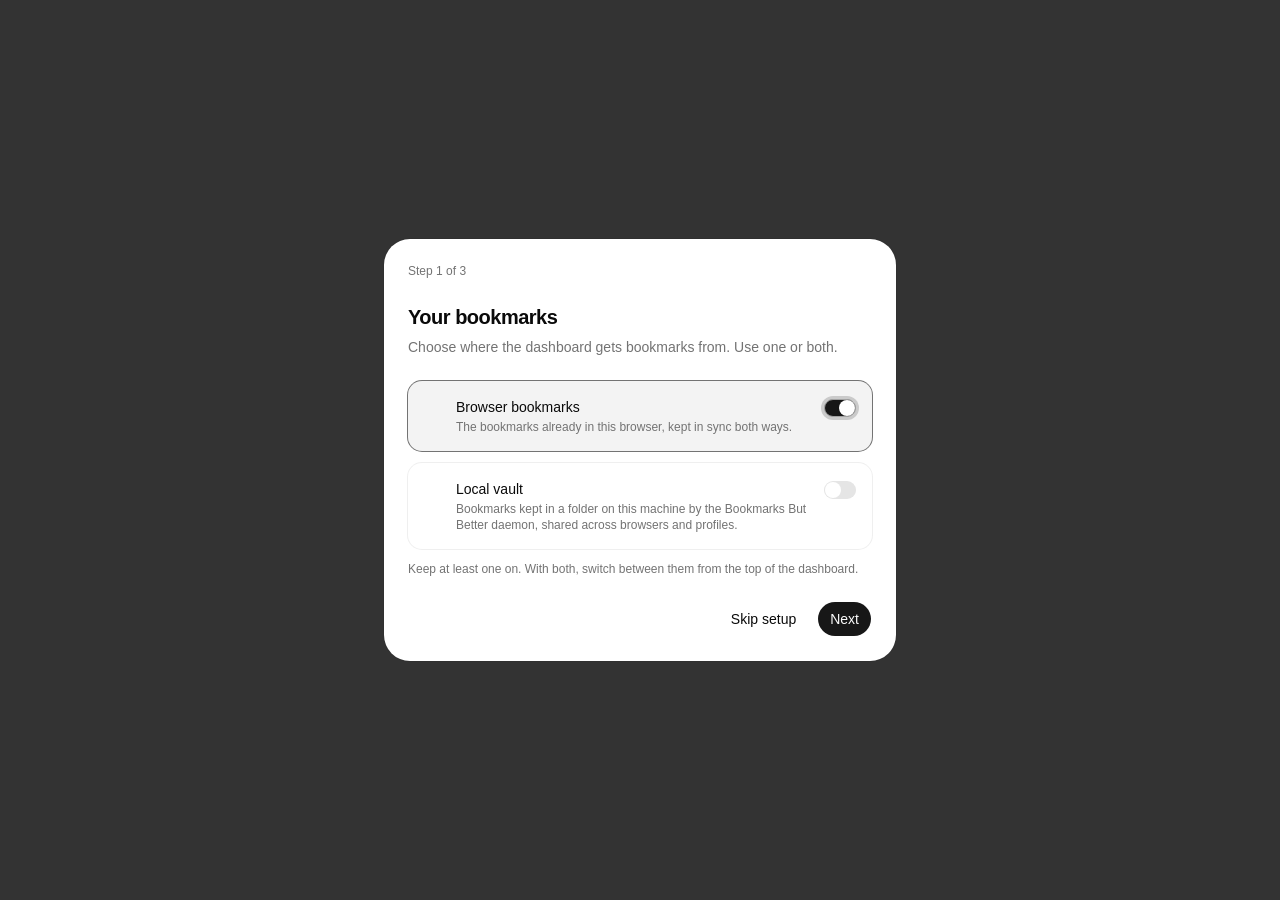
Test case: OnboardingWizard source step › keeps at least one on: switching Browser bookmarks off switches the vault on
Click the switch named "Browser bookmarks" in the row of "Browser bookmarks" at (840, 408), box [824, 399, 856, 417]
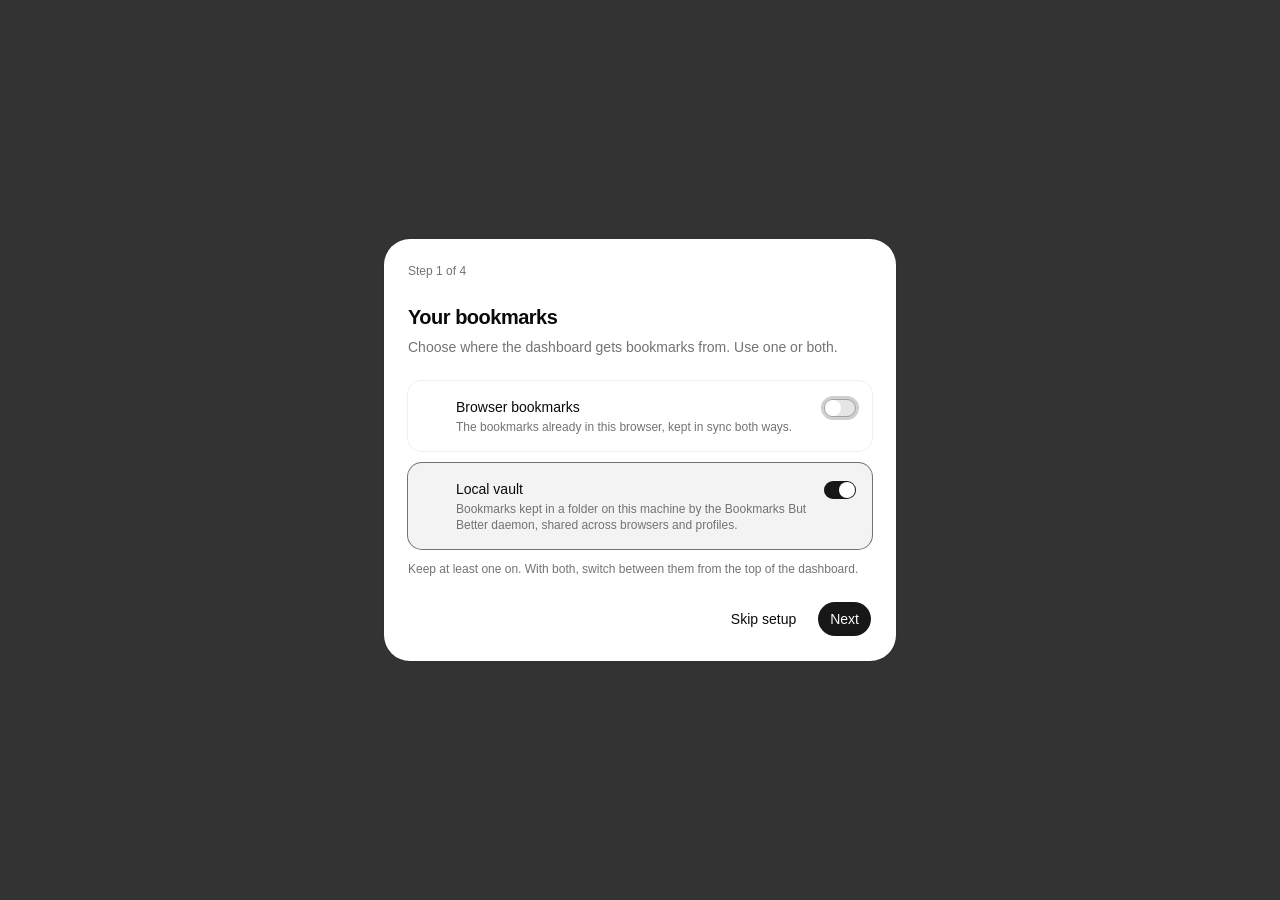
Now the switch named "Local vault" in the row of "Local vault" is checked, box [824, 481, 856, 499]
Click the button "Next" at (845, 619), box [817, 601, 872, 637]
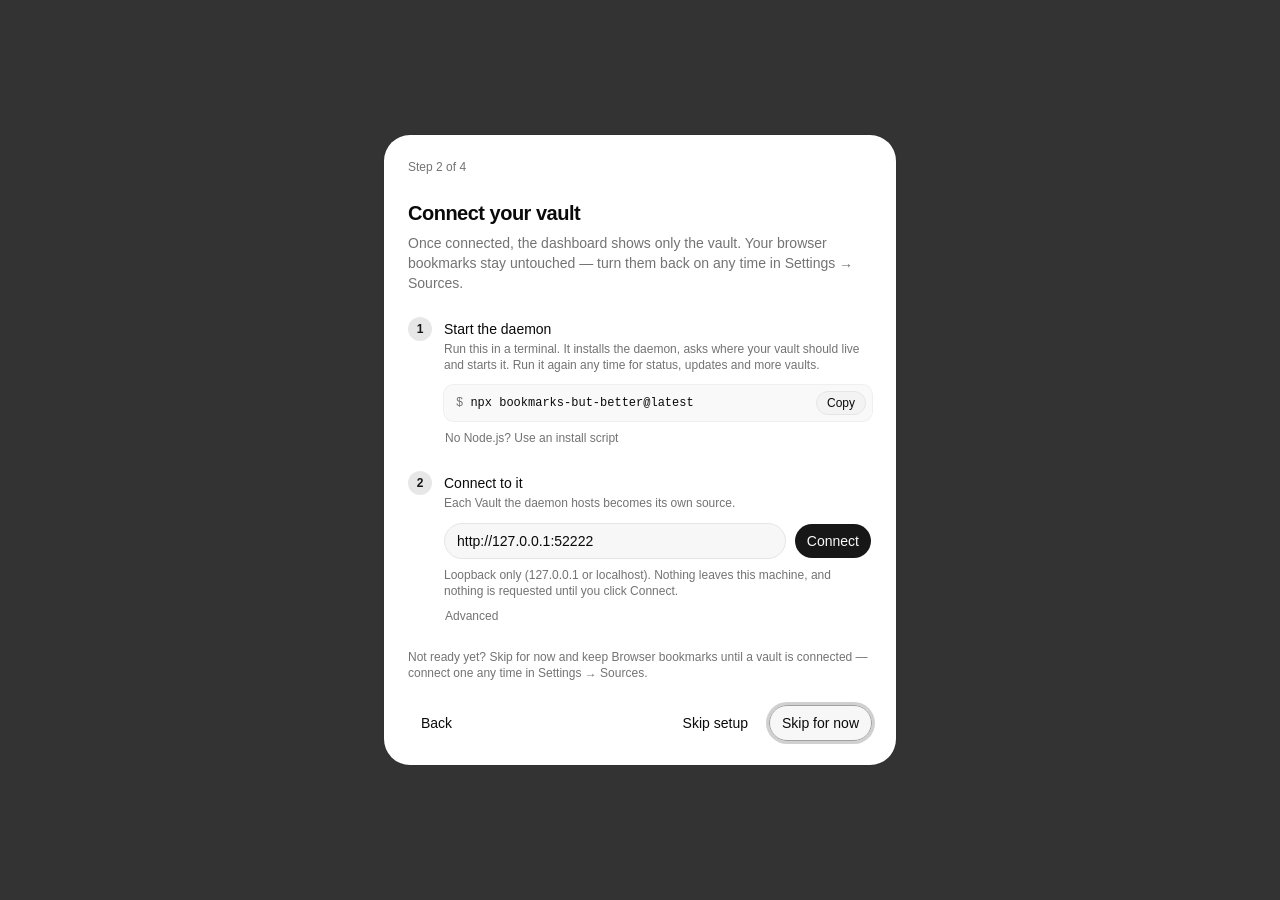
Now the heading "Connect your vault" is shown, box [408, 202, 580, 224]
Now the text "keep Browser bookmarks until a vault is connected" is shown, box [408, 650, 868, 680]
